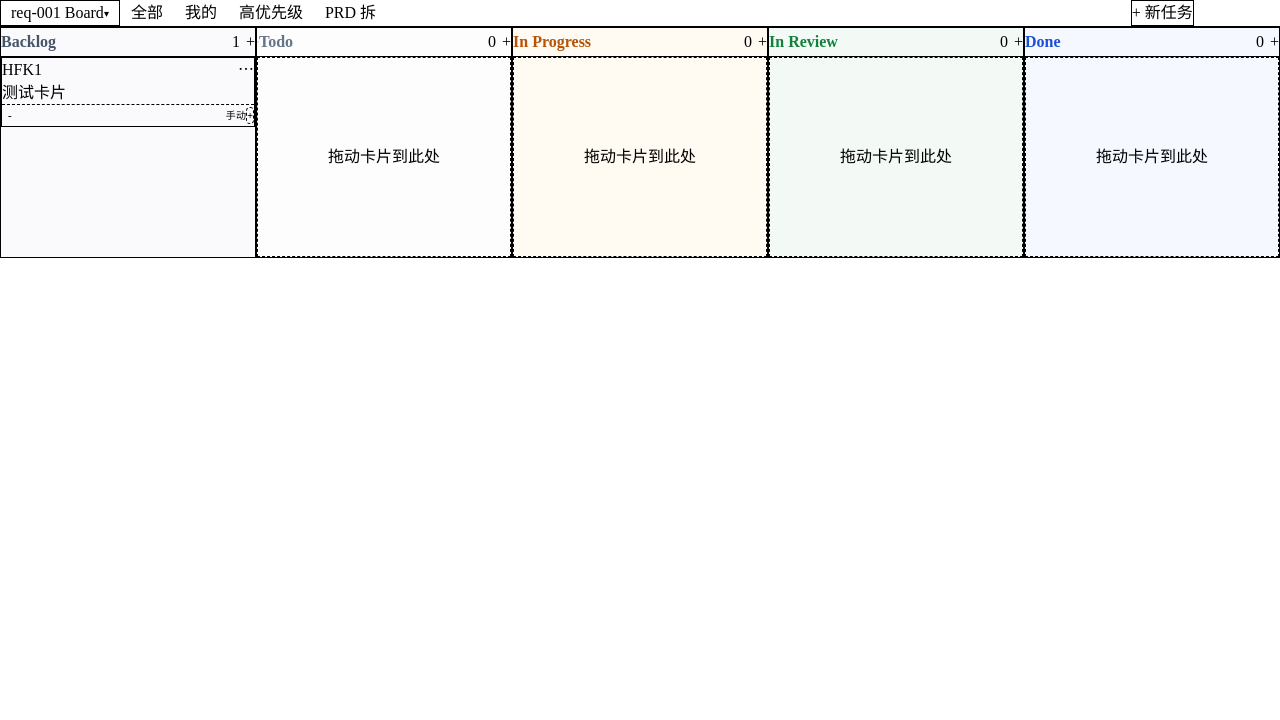
Scenario: BoardSection · 拖拽状态机(issue 19 / ADR-0035 D5) › 卡片 menu delete 仍打开 ConfirmDeleteDialog(不影响拖拽)
Click the button with test id "board-card-menu" at (246, 70), box x1=238 y1=62 x2=254 y2=78
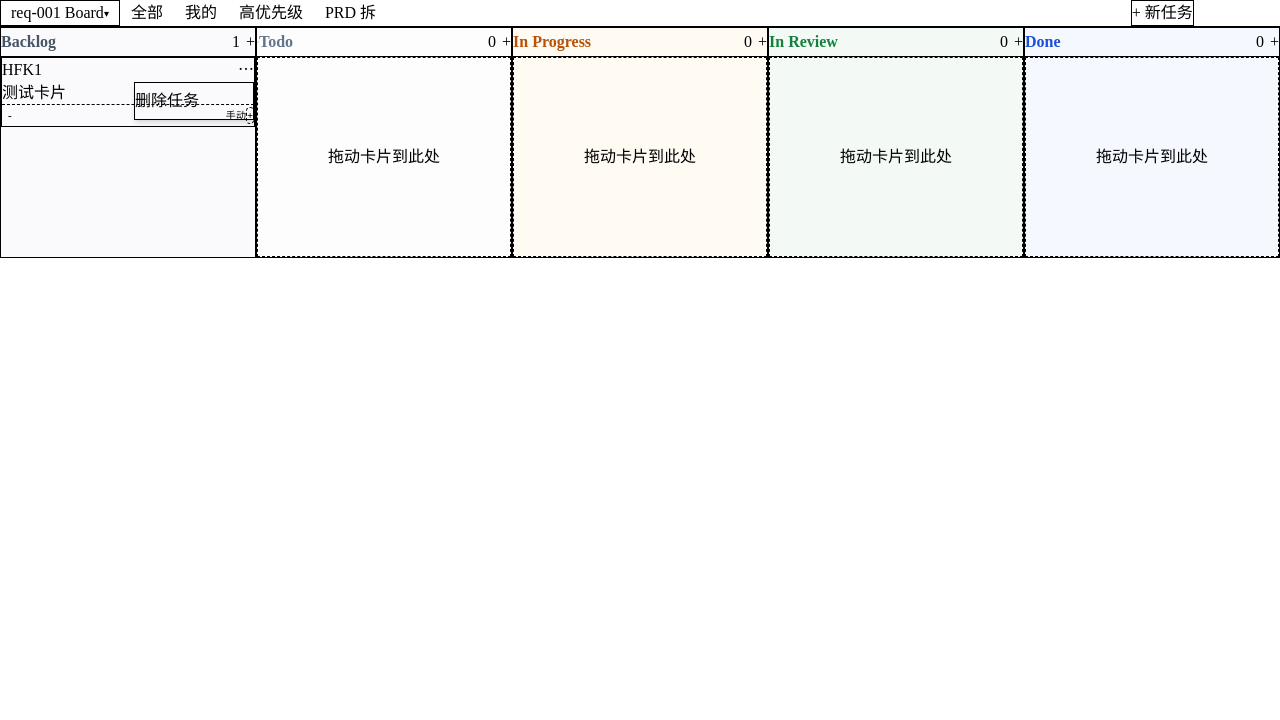
Click the button with test id "board-card-menu-delete" at (194, 101), box x1=135 y1=83 x2=253 y2=119
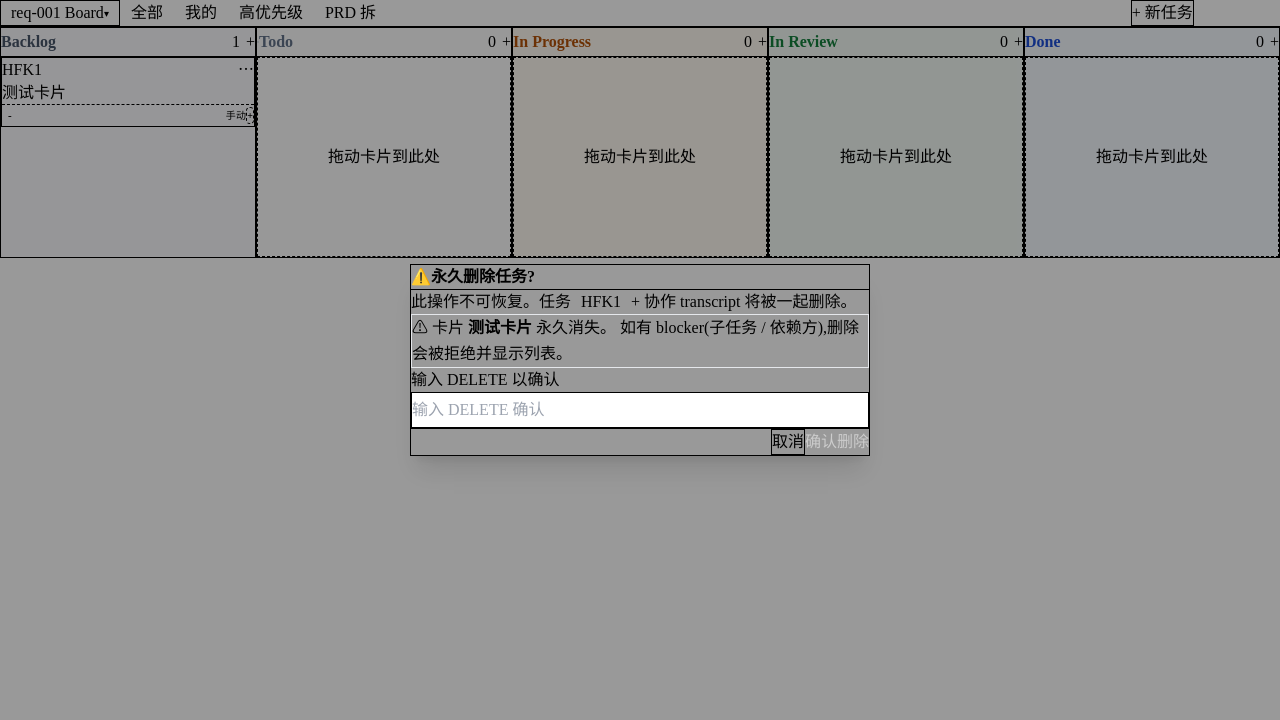
Check: the dialog with test id "confirm-delete-dialog" is shown
